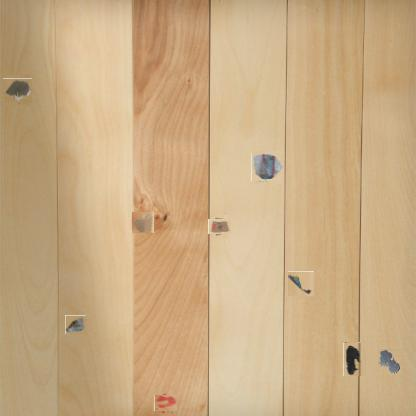dirty: (253, 152, 283, 183), (4, 77, 31, 104), (288, 271, 314, 296), (343, 342, 362, 376), (131, 212, 154, 234), (65, 315, 86, 334), (210, 217, 230, 236)
liquid: (378, 349, 402, 374), (156, 394, 176, 413)
